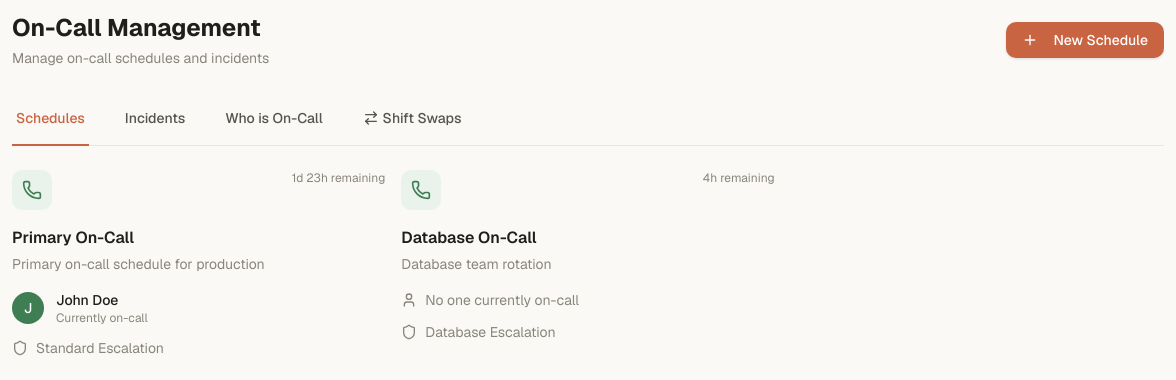
Test case: OnCallPage › Incidents Tab › shows loading state
Click the button "Incidents": click(155, 119) [121, 92, 189, 146]
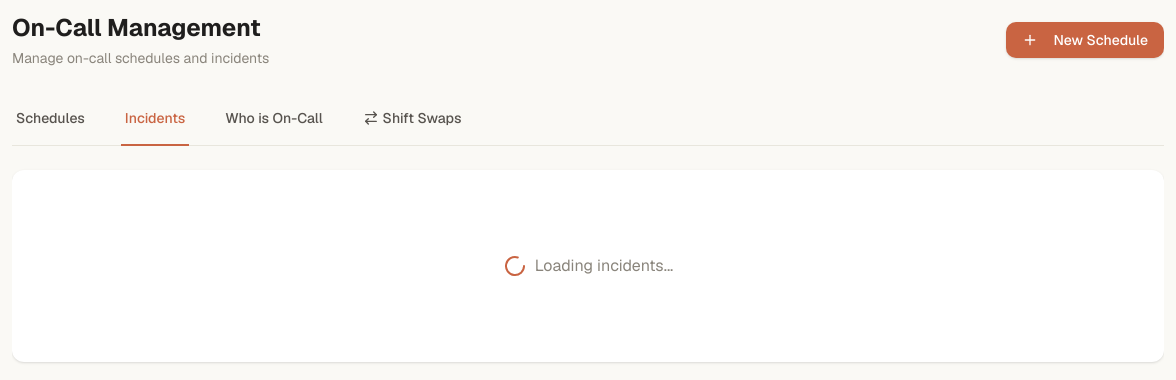
Now the text "Loading incidents..." is shown, box [535, 254, 673, 278]
